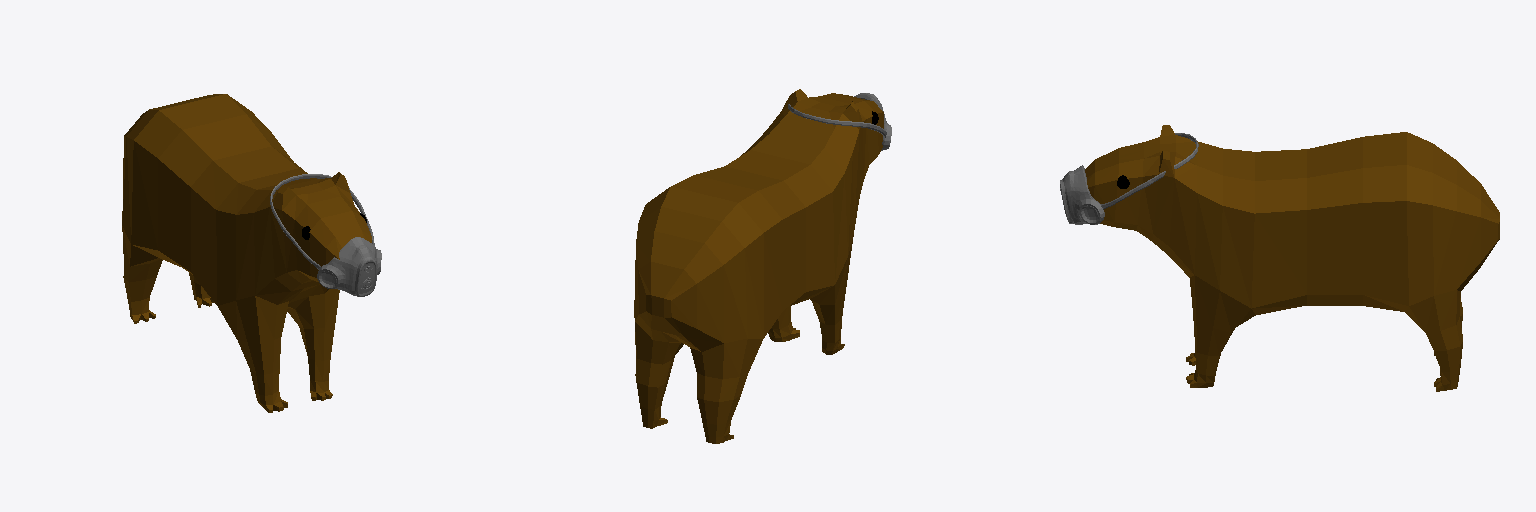
The picture shows the model from 3 angles: view 1: azimuth 30°, elevation 25°; view 2: azimuth 150°, elevation 25°; view 3: azimuth 270°, elevation 25°; orthographic projection.
Parts seen in each view (by area): view 1: Body.001, Mask_Sample_01.001; view 2: Body.001, Mask_Sample_01.001; view 3: Body.001, Mask_Sample_01.001.
Part boxes in pixels (bbox=[...]): Body.001: bbox=[122, 94, 371, 412]; Mask_Sample_01.001: bbox=[270, 174, 381, 296]; Body.001: bbox=[634, 89, 883, 443]; Mask_Sample_01.001: bbox=[788, 93, 891, 150]; Body.001: bbox=[1085, 125, 1499, 391]; Mask_Sample_01.001: bbox=[1060, 133, 1198, 224].
Size of the model in its own units: 1.52 by 2.85 by 4.82.
Materials: 4 (2 with a texture image).